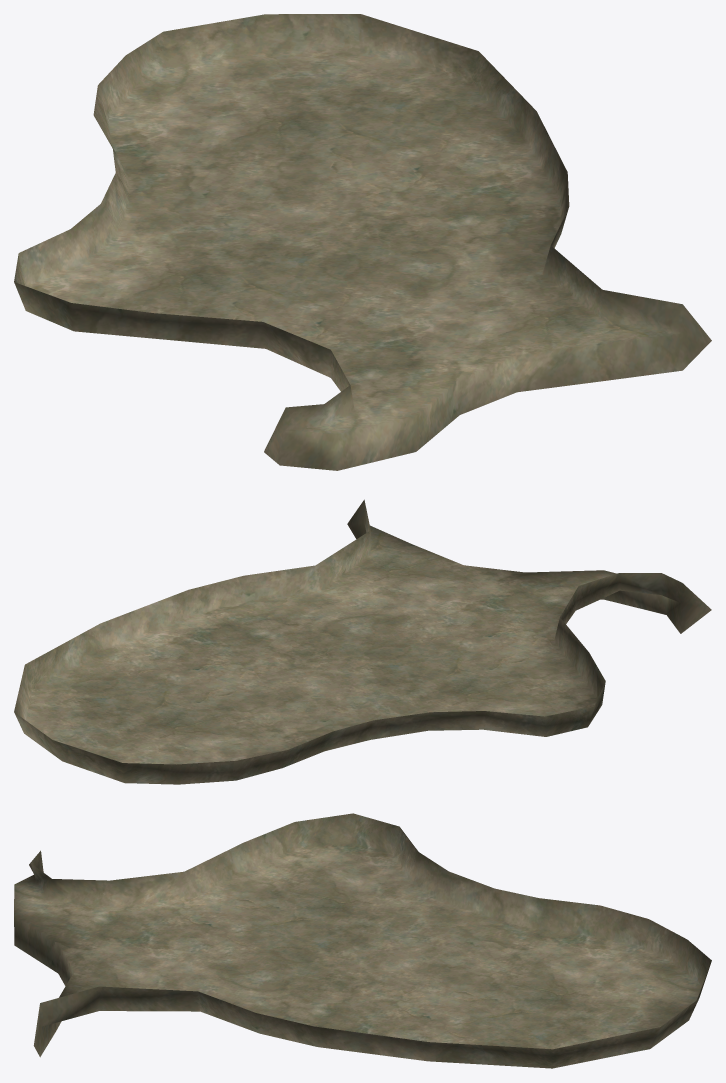
File: EKH_CAVERNS_PS_CA_OBJECT07.fbx
3 views of the same model, one above another, from view 1: azimuth 30°, elevation 25°; view 2: azimuth 150°, elevation 25°; view 3: azimuth 270°, elevation 25° (orthographic). The views are drawn at different scales.
Visible parts, largest first — view 1: EKH_CAVERNS_PS_CA_OBJECT07; view 2: EKH_CAVERNS_PS_CA_OBJECT07; view 3: EKH_CAVERNS_PS_CA_OBJECT07.
Boxes of the visible parts, x1,y1,x2,y2 form: EKH_CAVERNS_PS_CA_OBJECT07: (14,14,711,470); EKH_CAVERNS_PS_CA_OBJECT07: (14,499,711,784); EKH_CAVERNS_PS_CA_OBJECT07: (14,813,711,1068).
Size of the model in its own units: 80815 by 8865 by 101699.
Materials: 1 (1 with a texture image).
